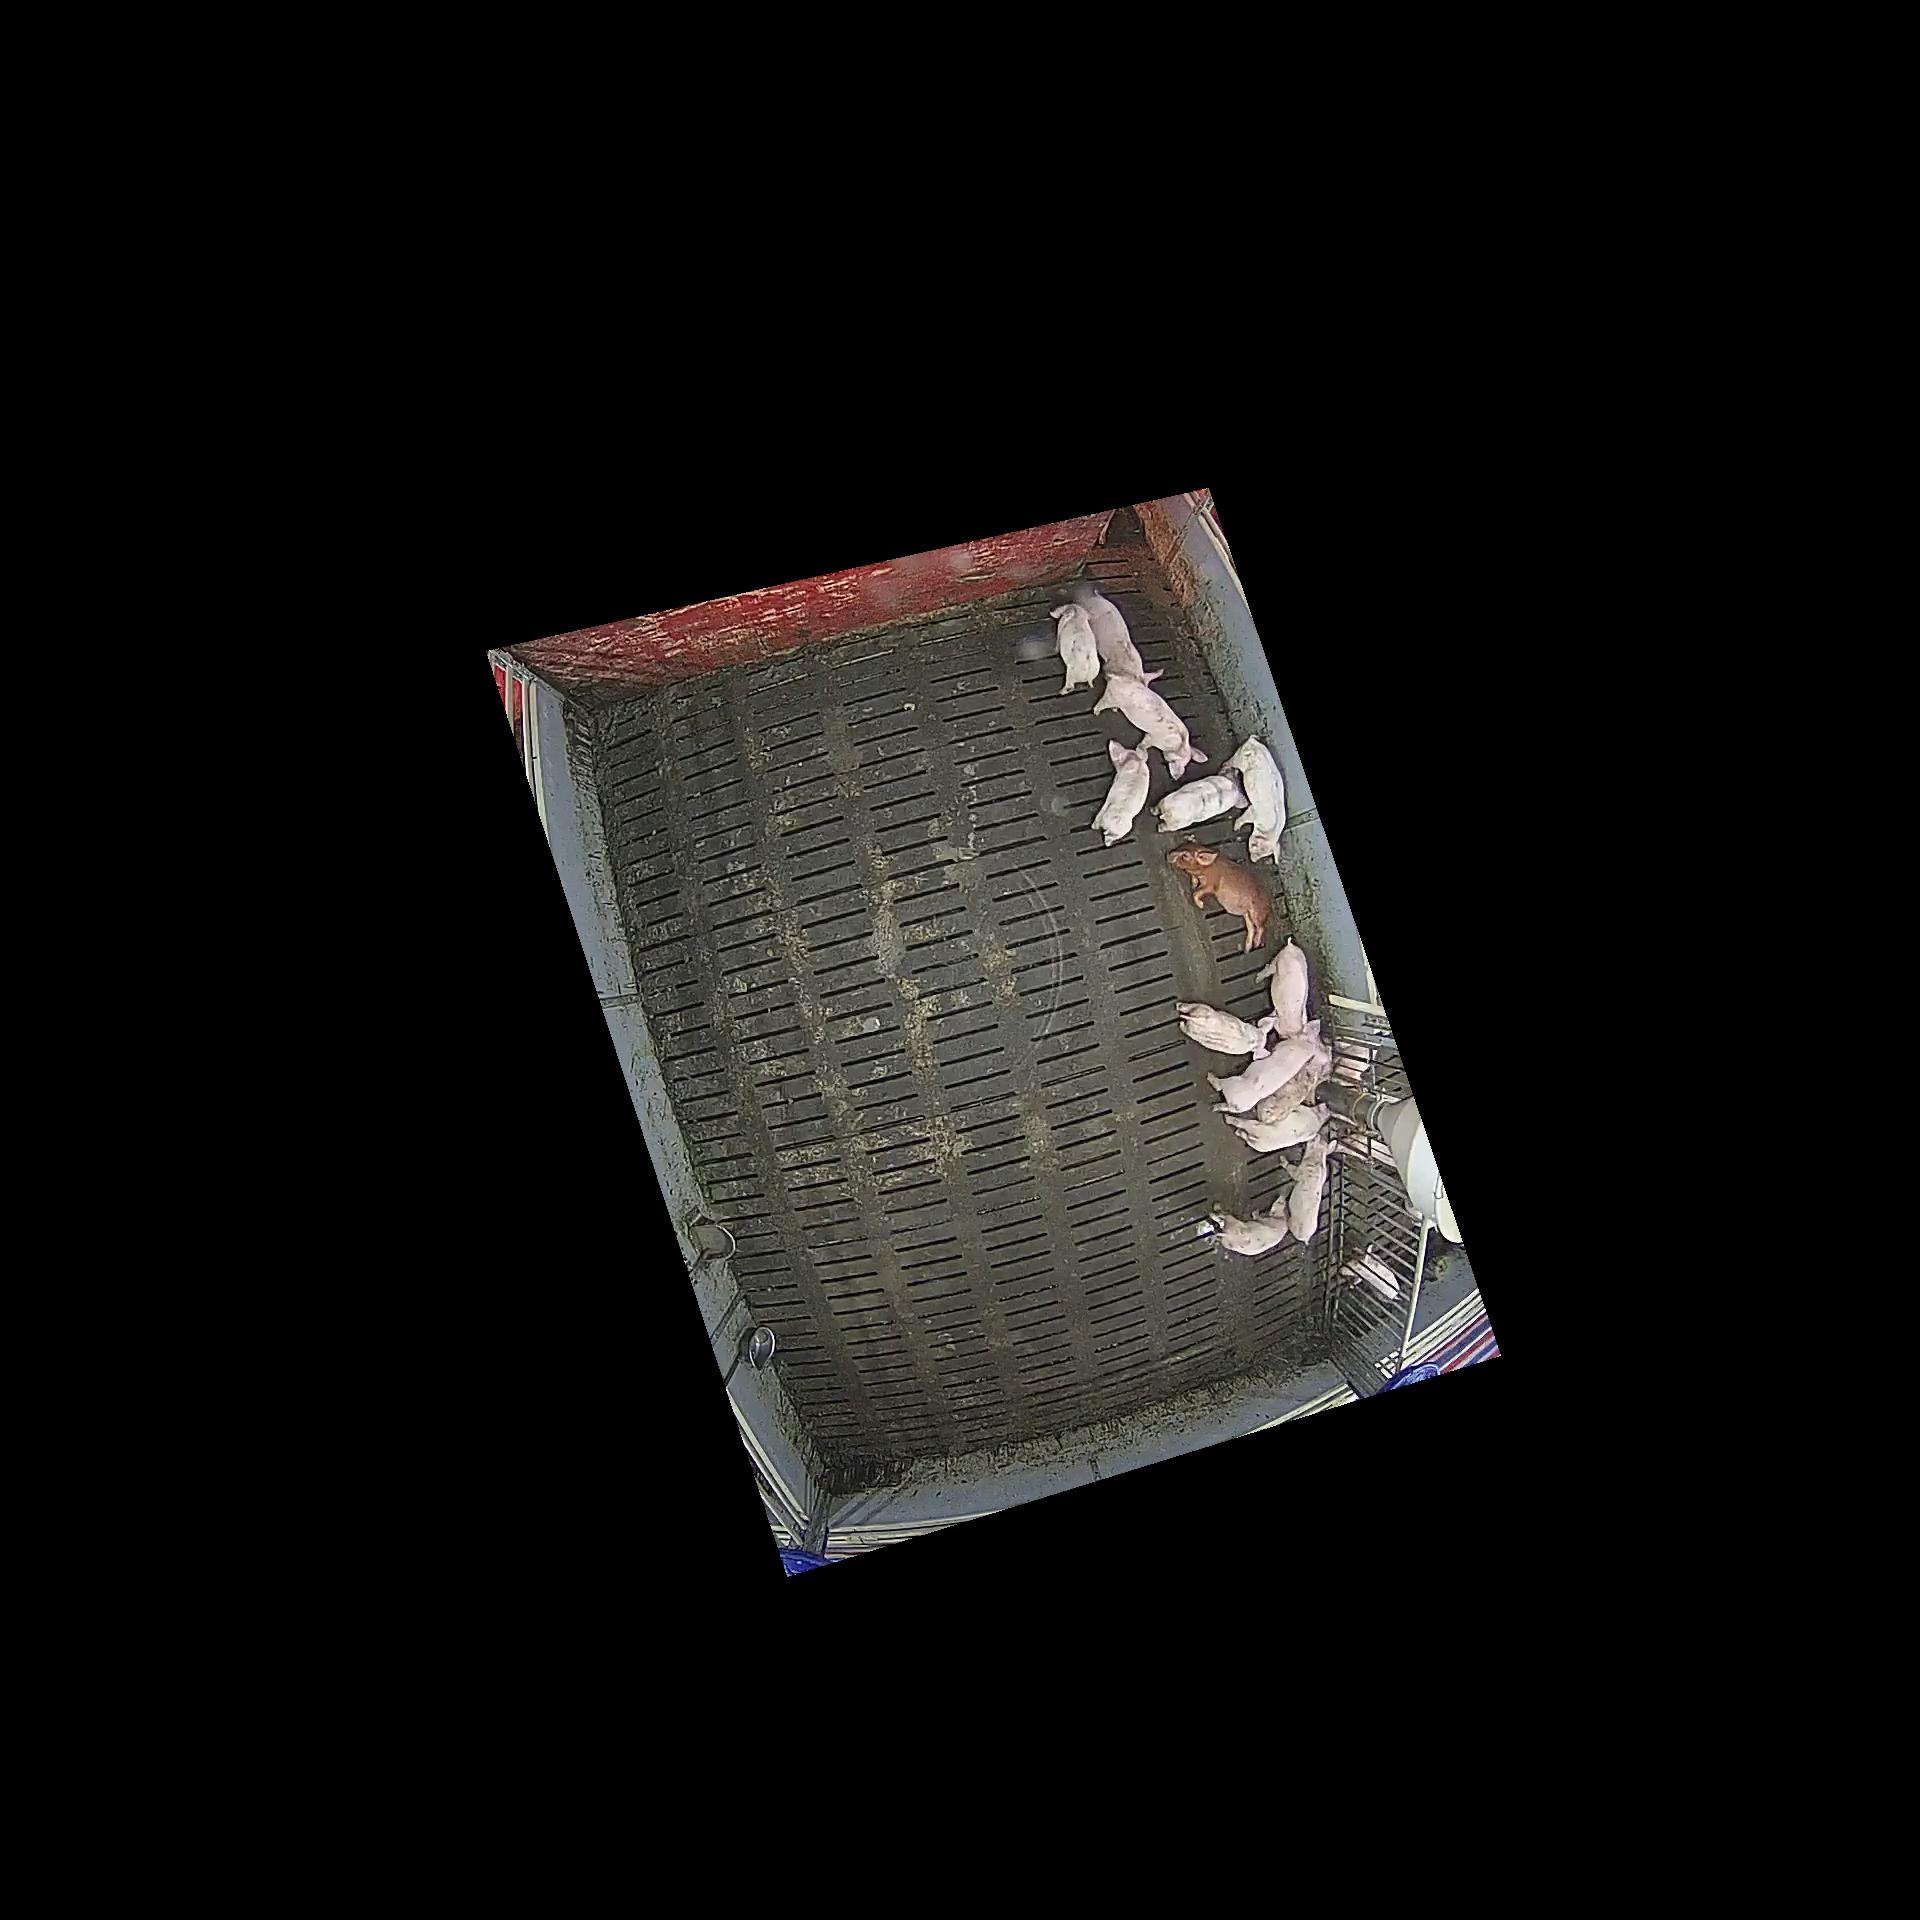pig: (1094, 672, 1208, 781), (1167, 835, 1271, 953), (1208, 1020, 1333, 1113), (1220, 735, 1285, 865), (1078, 589, 1164, 686), (1278, 1134, 1338, 1247), (1150, 767, 1248, 832), (1092, 740, 1150, 846), (1176, 1002, 1278, 1060), (1225, 1104, 1331, 1153), (1257, 937, 1308, 1037), (1208, 1196, 1289, 1255), (1255, 1062, 1333, 1124), (1050, 603, 1099, 695)
